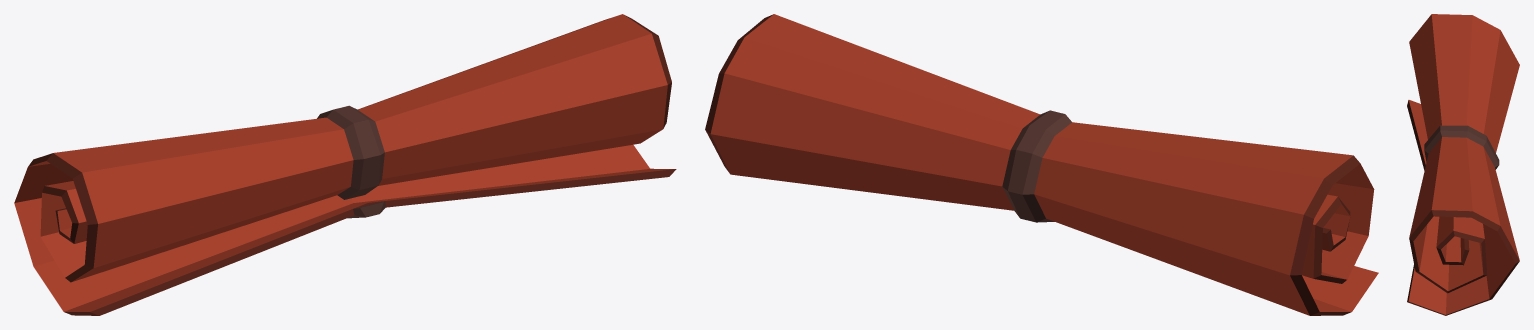
The model's file is Parchment_2_Red.fbx.
3 renders of one model, left to right at view 1: azimuth 30°, elevation 25°; view 2: azimuth 150°, elevation 25°; view 3: azimuth 270°, elevation 25°, orthographic. The views are drawn at different scales.
Visible parts, largest first — view 1: Parchment_2_Red_Part_1, Parchment_2_Red_Part_2, Parchment_2_Red_Part_3; view 2: Parchment_2_Red_Part_1, Parchment_2_Red_Part_2, Parchment_2_Red_Part_3; view 3: Parchment_2_Red_Part_1, Parchment_2_Red_Part_2, Parchment_2_Red_Part_3.
Part boxes in pixels (left/top/right/bottom): Parchment_2_Red_Part_1: left=14, top=14, right=674, bottom=311; Parchment_2_Red_Part_2: left=28, top=15, right=676, bottom=315; Parchment_2_Red_Part_3: left=317, top=105, right=385, bottom=218; Parchment_2_Red_Part_1: left=710, top=14, right=1378, bottom=315; Parchment_2_Red_Part_2: left=705, top=14, right=1360, bottom=315; Parchment_2_Red_Part_3: left=1002, top=110, right=1071, bottom=222; Parchment_2_Red_Part_1: left=1408, top=14, right=1519, bottom=314; Parchment_2_Red_Part_2: left=1407, top=100, right=1519, bottom=315; Parchment_2_Red_Part_3: left=1424, top=125, right=1499, bottom=169.
Bounding box in the file's own units: 20.41 × 4.99 × 4.82.
